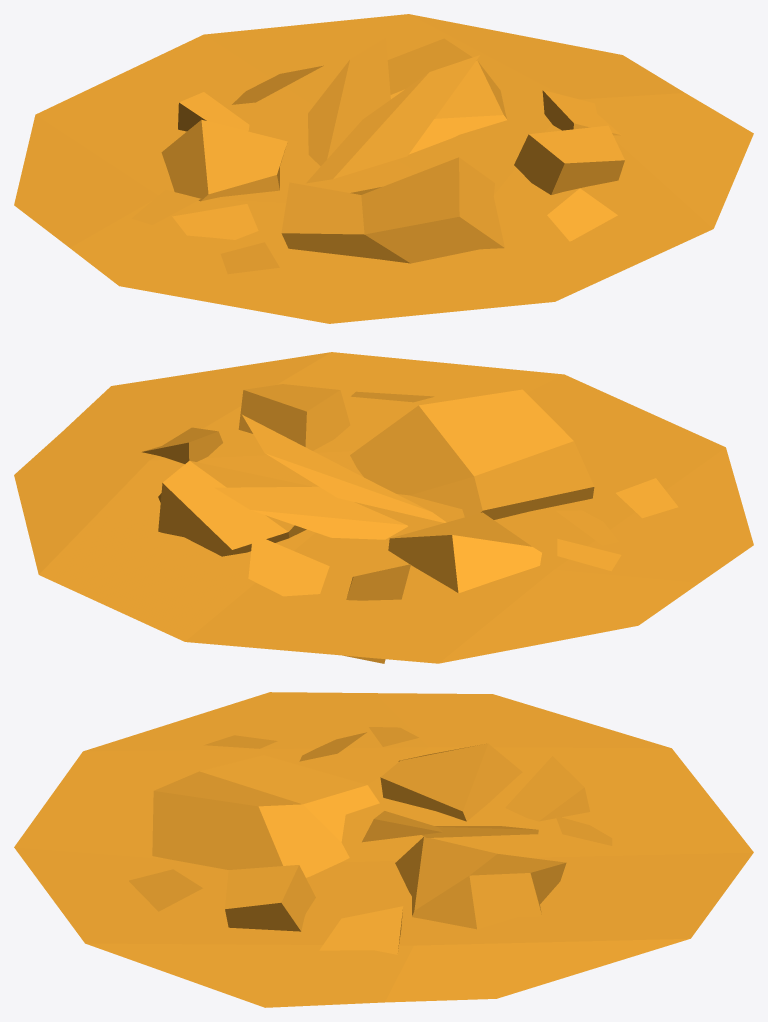
The model's file is SM_Soup_Veggie_A.fbx.
The picture shows the model from 3 angles, top to bottom: view 1: azimuth 30°, elevation 25°; view 2: azimuth 150°, elevation 25°; view 3: azimuth 270°, elevation 25°; orthographic projection. The views are drawn at different scales.
Parts seen in each view (by area): view 1: soup-veggie-a; view 2: soup-veggie-a; view 3: soup-veggie-a.
Boxes of the visible parts, bbox=[...] form: soup-veggie-a: bbox=[14, 14, 753, 323]; soup-veggie-a: bbox=[14, 352, 753, 663]; soup-veggie-a: bbox=[14, 692, 753, 1007].
Size of the model in its own units: 0.2501 by 0.0492 by 0.2478.
